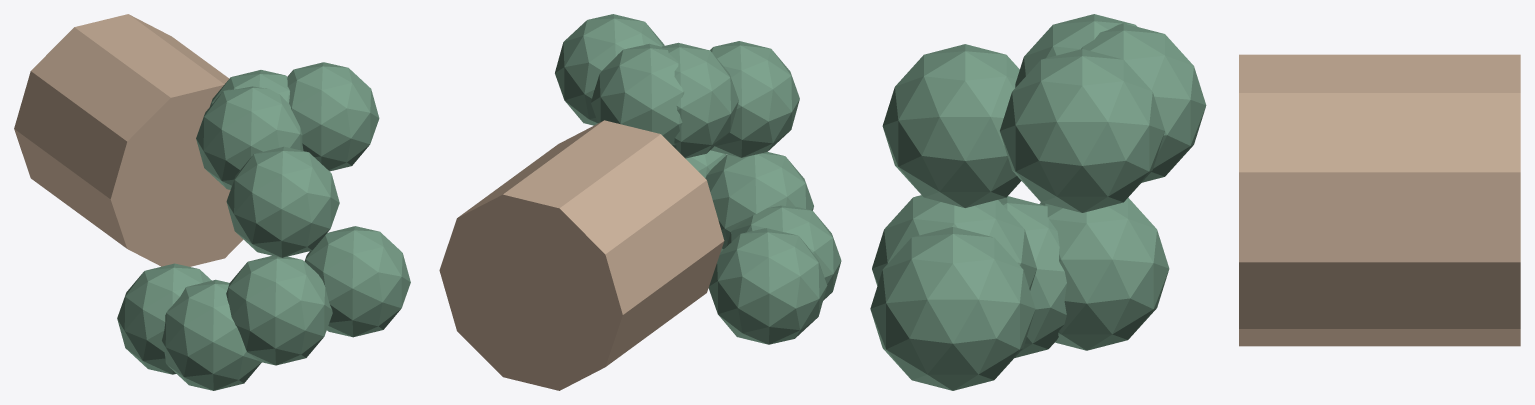
File: market_basket.glb
The picture shows the model from 3 angles, left to right: view 1: azimuth 30°, elevation 25°; view 2: azimuth 150°, elevation 25°; view 3: azimuth 270°, elevation 25°; orthographic projection. The views are drawn at different scales.
Parts seen in each view (by area): view 1: green, wood2; view 2: wood2, green; view 3: green, wood2.
Part boxes in pixels (<box>): green: <box>117,62,410,390</box>; wood2: <box>14,14,243,266</box>; wood2: <box>439,120,724,390</box>; green: <box>555,14,841,344</box>; green: <box>870,14,1206,390</box>; wood2: <box>1239,54,1520,346</box>.
Size of the model in its own units: 1.35 by 1.41 by 2.12.
